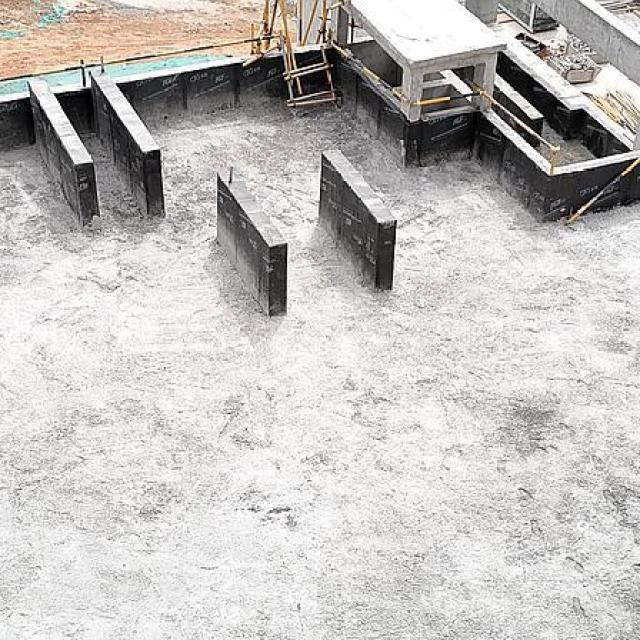edge_guardrail: (0, 31, 307, 88), (412, 73, 562, 174), (328, 31, 406, 102), (565, 157, 640, 227)
